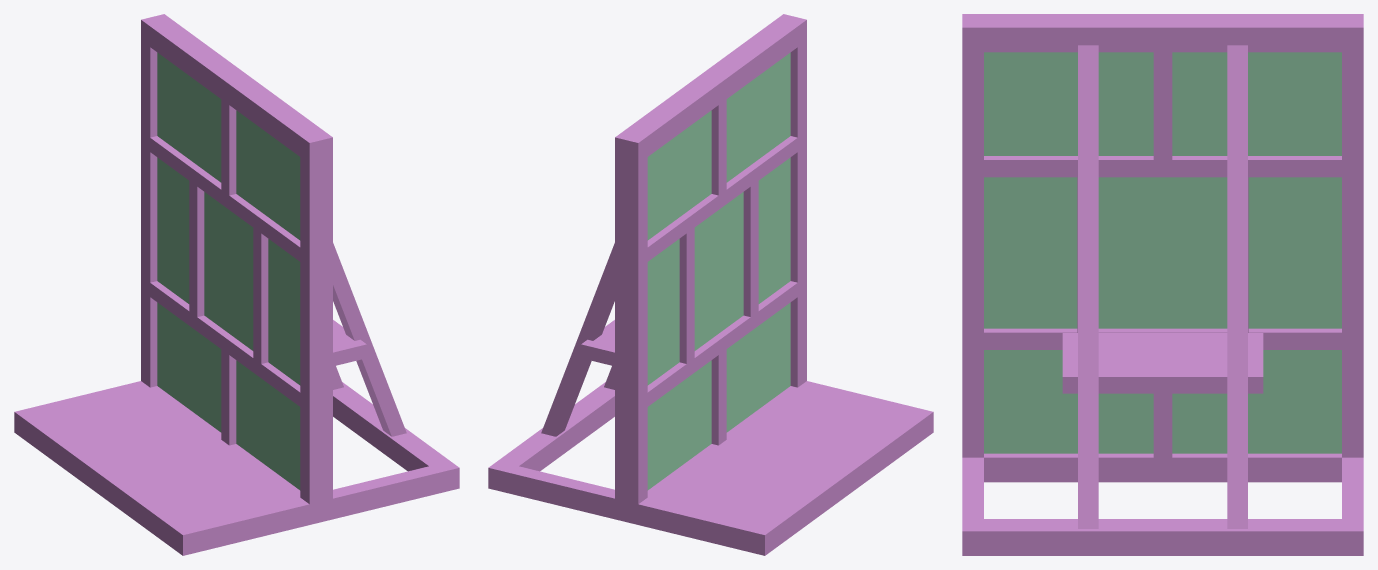
File: RatiVallaAlta.fbx
3 renders of one model, left to right at view 1: azimuth 30°, elevation 25°; view 2: azimuth 150°, elevation 25°; view 3: azimuth 270°, elevation 25°, orthographic. The views are drawn at different scales.
Parts seen in each view (by area): view 1: RatiVallaAlta; view 2: RatiVallaAlta; view 3: RatiVallaAlta.
Part boxes in pixels (x1,y1,x2,y2): RatiVallaAlta: (14,14,459,555); RatiVallaAlta: (488,14,933,555); RatiVallaAlta: (962,14,1363,555).
Bounding box in the file's own units: 74.58 × 98.43 × 78.74.
